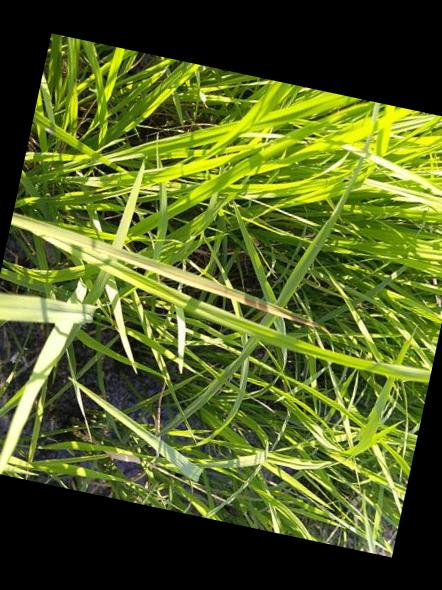Leaf Streak: (10, 212, 313, 324)
